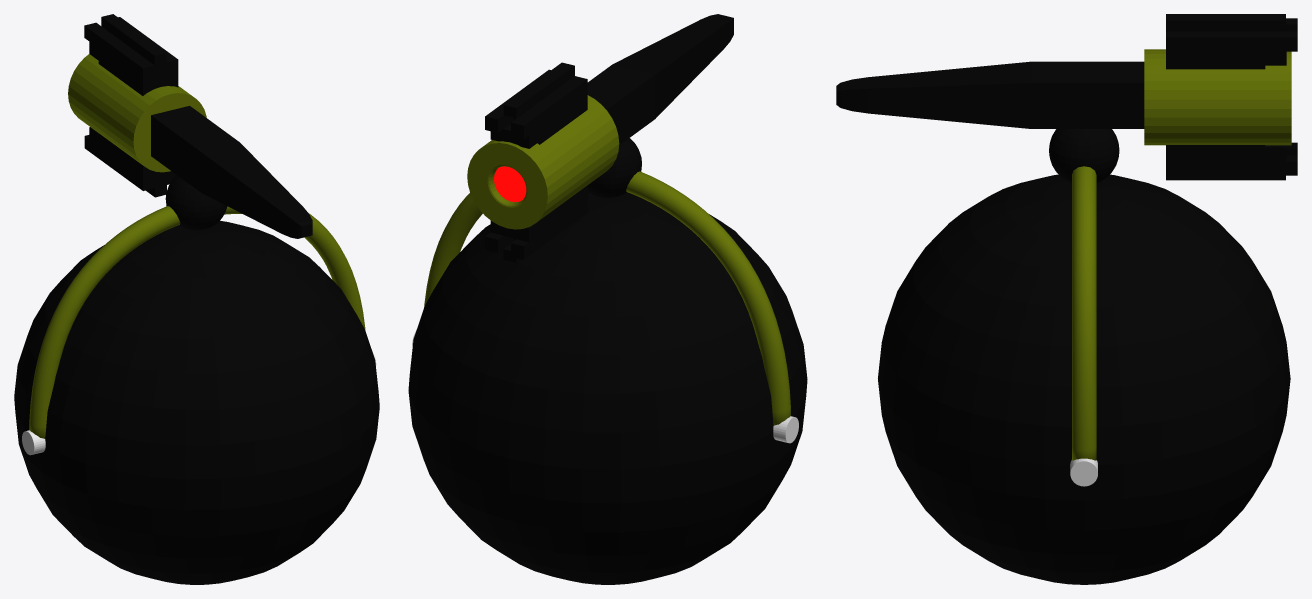
The model's file is drone_ground.gltf.
3 views of the same model, side by side, from view 1: azimuth 30°, elevation 25°; view 2: azimuth 150°, elevation 25°; view 3: azimuth 270°, elevation 25° (orthographic). The views are drawn at different scales.
Parts seen in each view (by area): view 1: Sphere, Cube, NurbsPath, Cylinder.001, Cube.001, Cube.002, Sphere.001; view 2: Sphere, Cylinder.001, NurbsPath, Cube, Cube.001, Cube.002, Sphere.001, Cylinder; view 3: Sphere, Cube, Cylinder.001, NurbsPath, Cube.001, Cube.002, Sphere.001, Cylinder.
Part boxes in pixels (<box>): Sphere: <box>14,220,379,584</box>; Cube: <box>151,106,312,238</box>; NurbsPath: <box>29,206,365,438</box>; Cylinder.001: <box>68,54,206,172</box>; Cube.001: <box>84,14,178,95</box>; Cube.002: <box>84,127,176,197</box>; Sphere.001: <box>165,175,227,230</box>; Sphere: <box>408,192,807,584</box>; Cylinder.001: <box>467,95,619,229</box>; NurbsPath: <box>424,171,790,425</box>; Cube: <box>587,14,733,145</box>; Cube.001: <box>485,62,587,148</box>; Cube.002: <box>485,185,587,262</box>; Sphere.001: <box>587,138,641,198</box>; Cylinder: <box>412,330,798,443</box>; Sphere: <box>878,174,1290,584</box>; Cube: <box>836,61,1144,128</box>; Cylinder.001: <box>1144,49,1291,145</box>; NurbsPath: <box>1072,166,1096,460</box>; Cube.001: <box>1166,14,1297,69</box>; Cube.002: <box>1166,142,1297,180</box>; Sphere.001: <box>1049,129,1119,183</box>; Cylinder: <box>1070,458,1097,486</box>.
Size of the model in its own units: 2.15 by 2.93 by 2.24.
